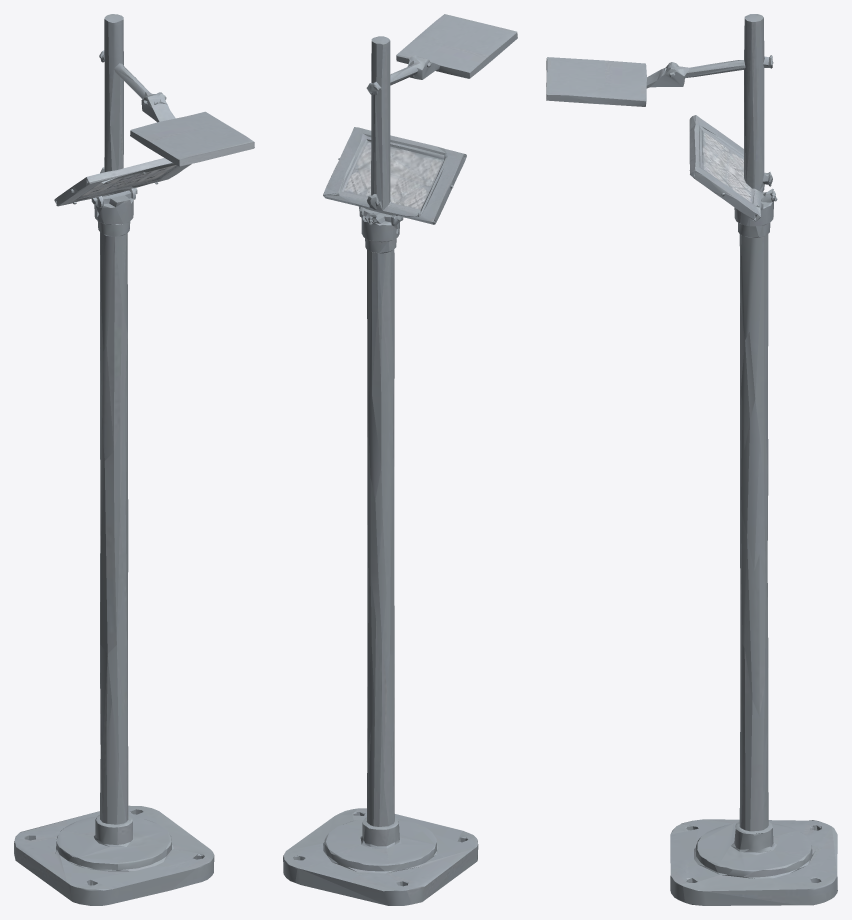
File: lightmast.glb
3 views of the same model, side by side, from view 1: azimuth 30°, elevation 25°; view 2: azimuth 150°, elevation 25°; view 3: azimuth 270°, elevation 25° (orthographic). The views are drawn at different scales.
Size of the model in its own units: 0.3379 by 1.9 by 0.5892.
1 material, 1 textured.
